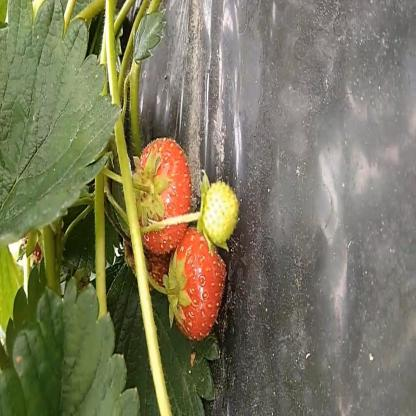ripe: (162, 230, 233, 342), (126, 140, 193, 252)
unripe: (202, 179, 242, 245)
